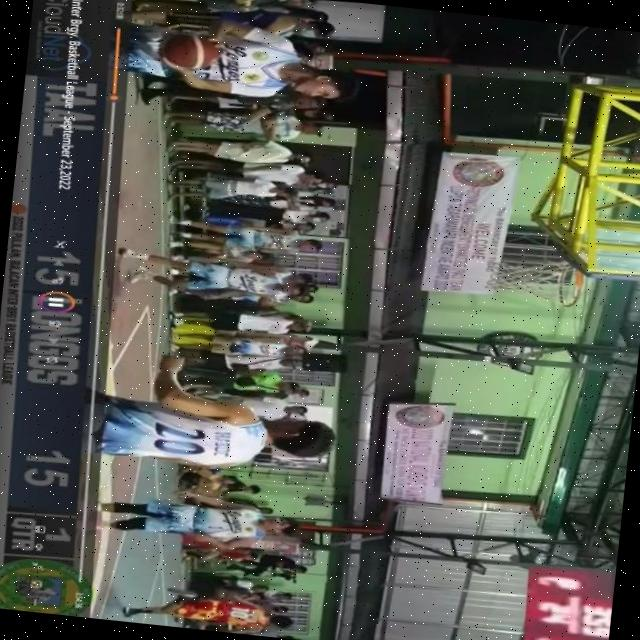ball: (156, 26, 227, 73)
hoop: (551, 260, 584, 310)
